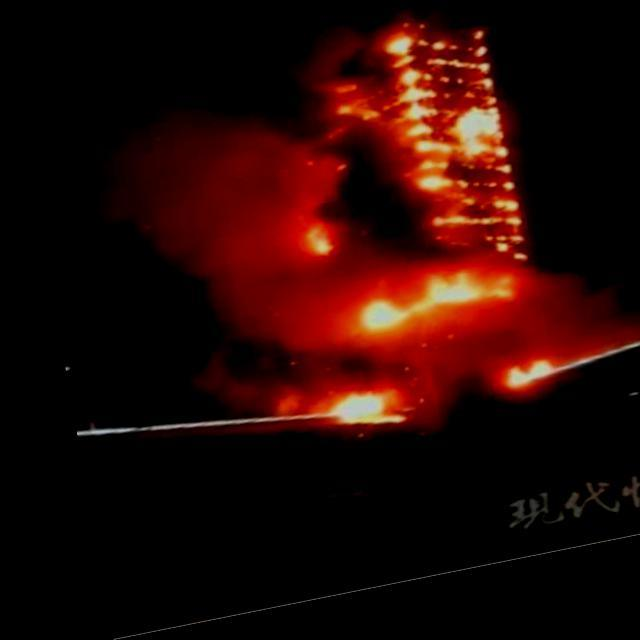Fire: (253, 22, 552, 446)
